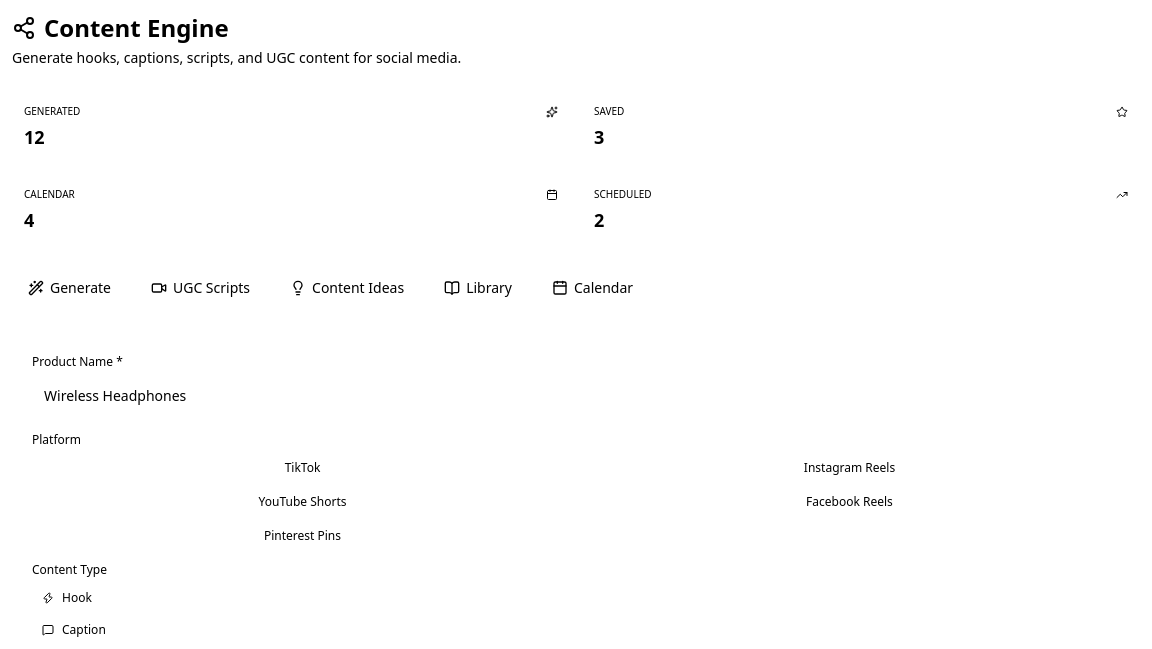
SocialContentPage › prefills product name and image from product context
Expected: the field labelled "Product Name *" holds "Wireless Headphones", left=32, top=376, right=1120, bottom=416
Click the button "UGC Scripts": (201, 288) left=135, top=270, right=266, bottom=306
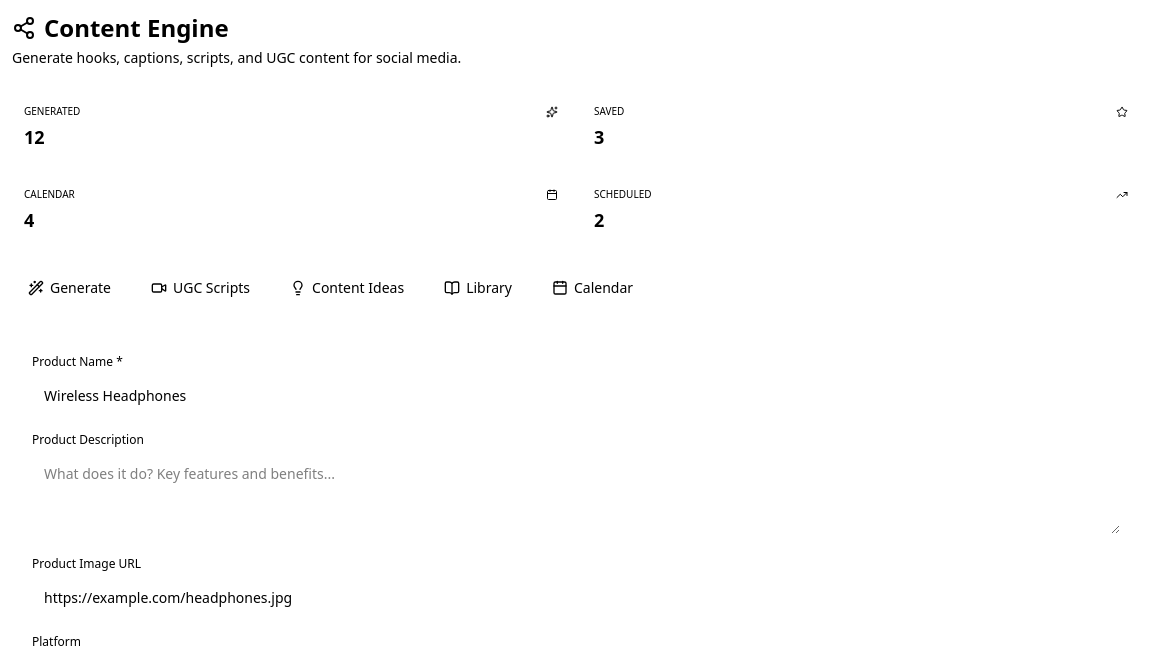
Result: the field labelled "Product Image URL" holds "https://example.com/headphones.jpg" at left=32, top=578, right=1120, bottom=618
